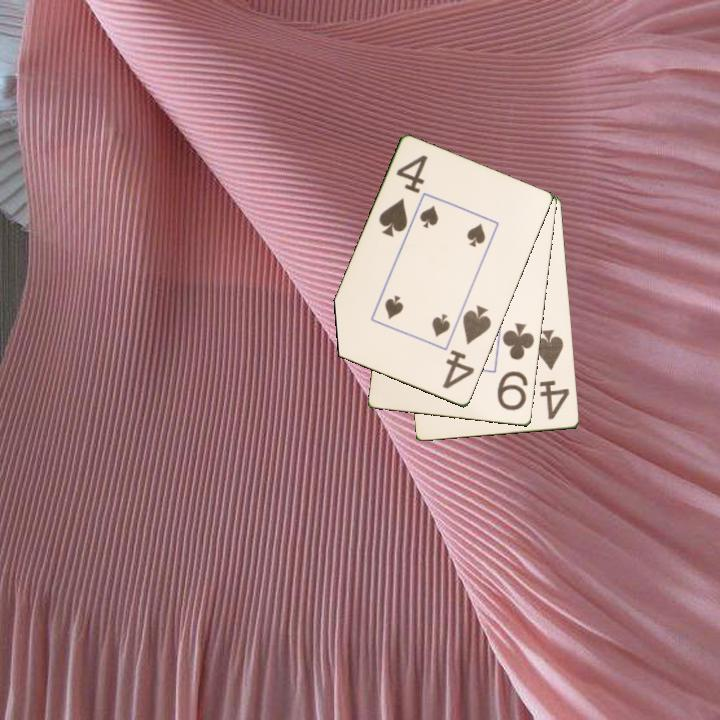4s: (375, 152, 431, 241), (439, 302, 494, 392), (532, 326, 573, 422)
9c: (494, 319, 537, 414)
